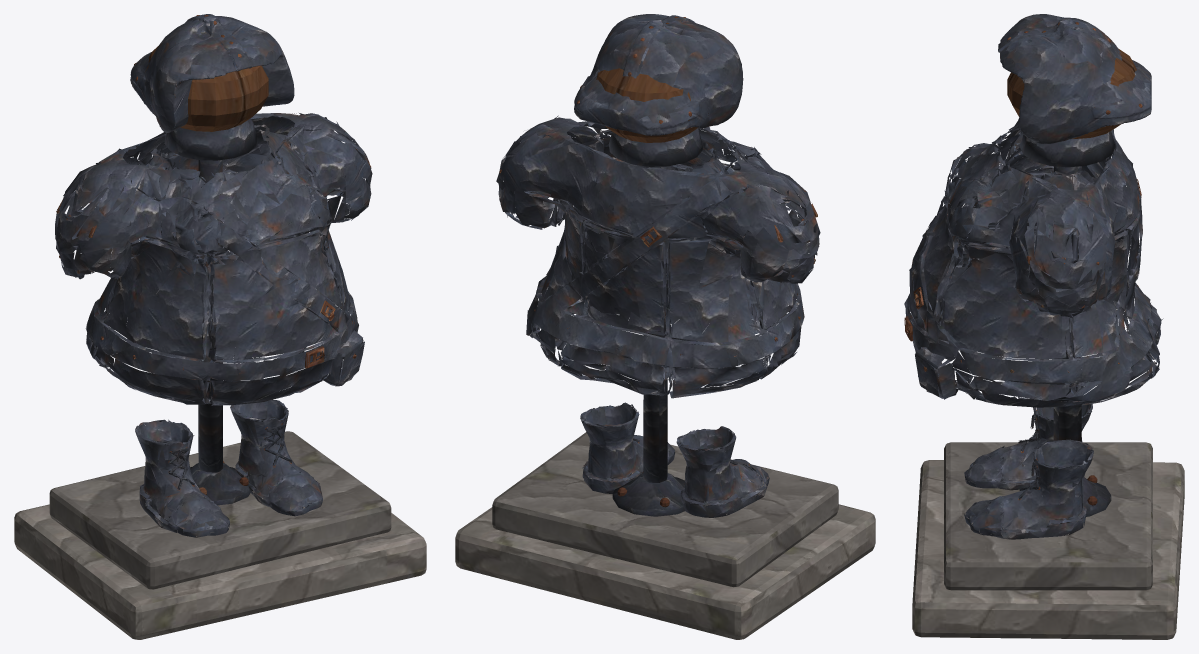
The model's file is th_armour_stand.glb.
The picture shows the model from 3 angles, left to right: view 1: azimuth 30°, elevation 25°; view 2: azimuth 150°, elevation 25°; view 3: azimuth 270°, elevation 25°; orthographic projection.
Parts seen in each view (by area): view 1: model; view 2: model; view 3: model.
Part boxes in pixels (left/top/right/bottom): model: left=14, top=14, right=426, bottom=639; model: left=455, top=14, right=875, bottom=639; model: left=904, top=14, right=1184, bottom=639.
Bounding box in the file's own units: 0.8271 × 1.39 × 0.6445.
8 materials, 8 textured.
